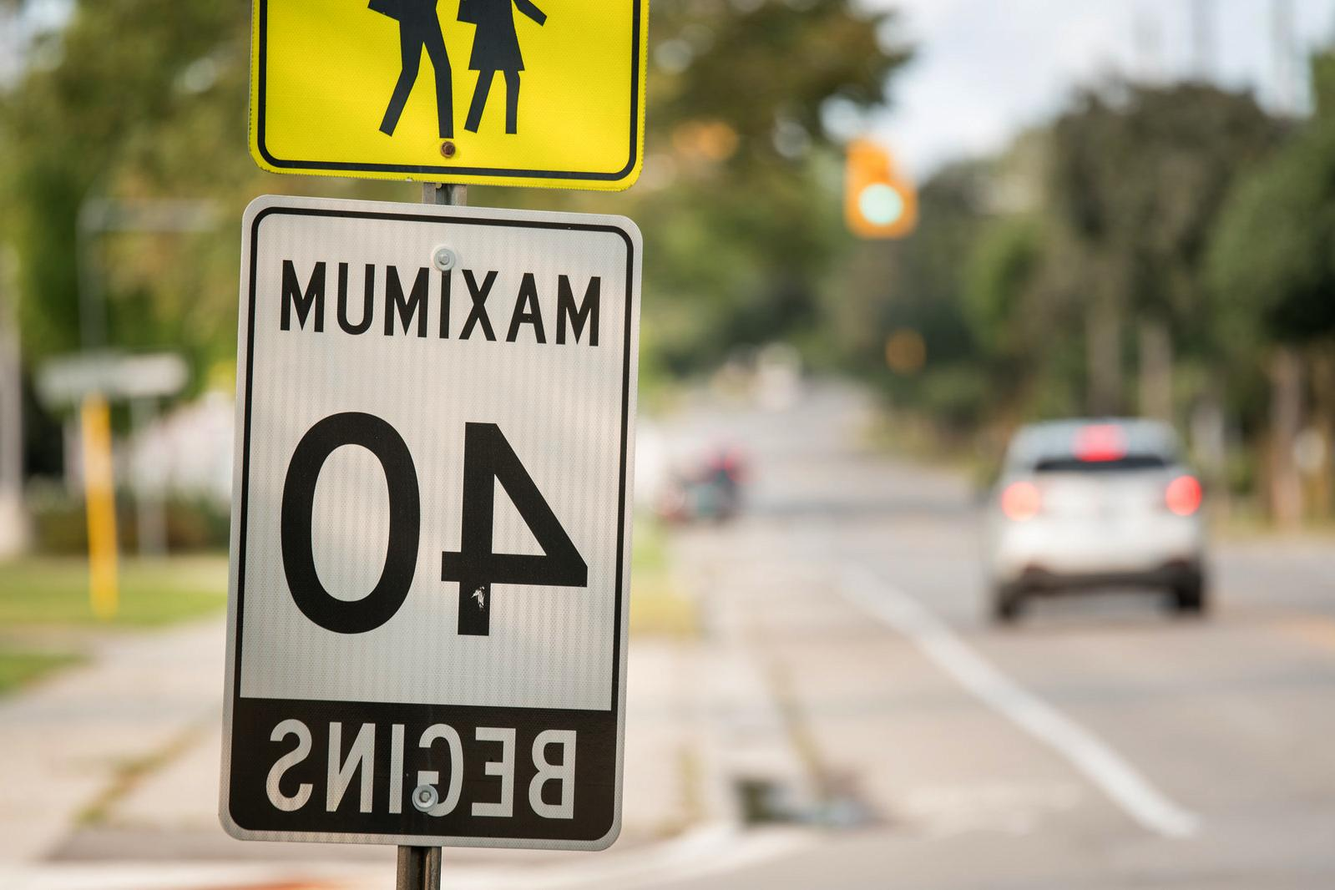speed limit sign: (216, 205, 648, 854)
